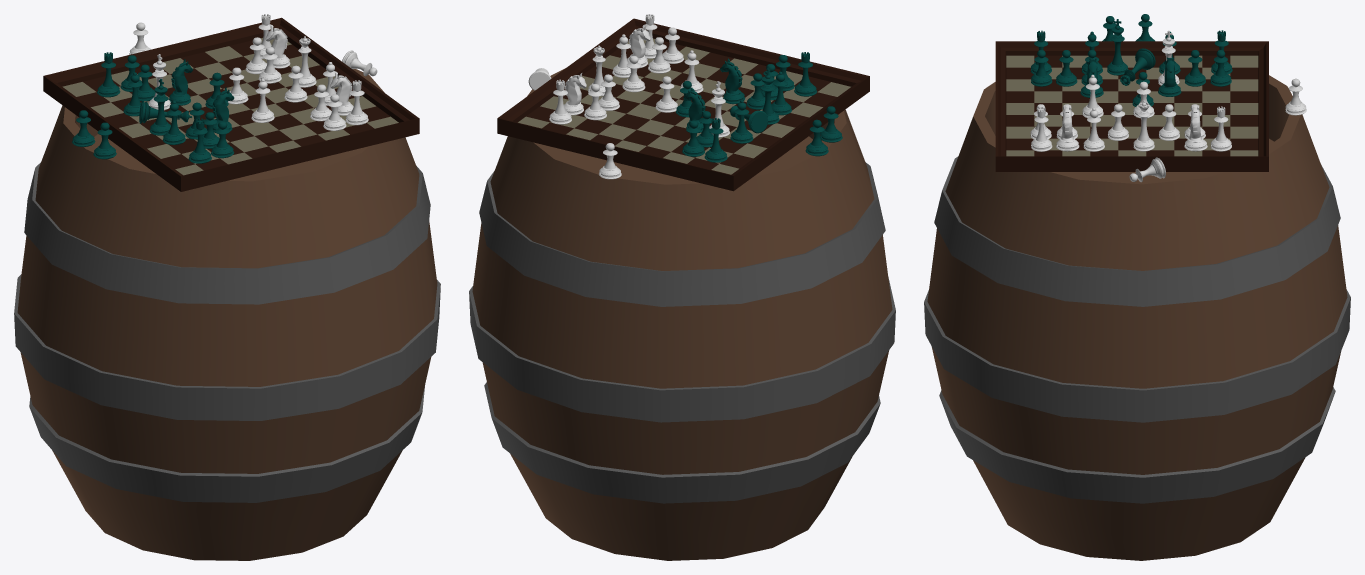
The model's file is Cassa + Scacchi.fbx.
3 views of the same model, side by side, from view 1: azimuth 30°, elevation 25°; view 2: azimuth 150°, elevation 25°; view 3: azimuth 270°, elevation 25° (orthographic).
Visible parts, largest first — view 1: T. Barrel 1 .007; view 2: T. Barrel 1 .007; view 3: T. Barrel 1 .007.
Part boxes in pixels (left/top/right/bottom): T. Barrel 1 .007: left=14, top=14, right=440, bottom=560; T. Barrel 1 .007: left=469, top=14, right=895, bottom=560; T. Barrel 1 .007: left=924, top=14, right=1350, bottom=560.
Bounding box in the file's own units: 150 × 171 × 149.
